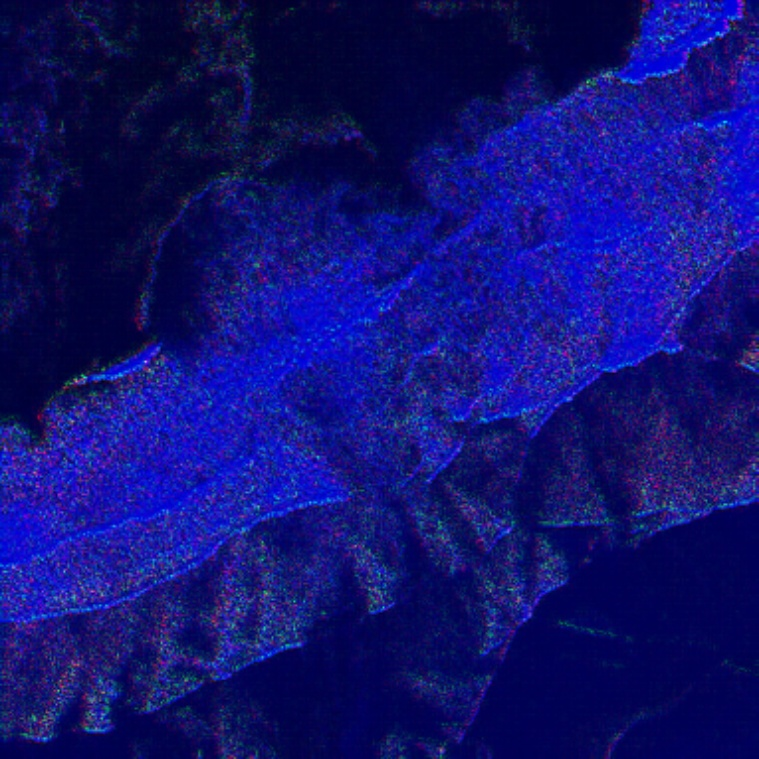rip_current: (178, 180, 485, 582)
